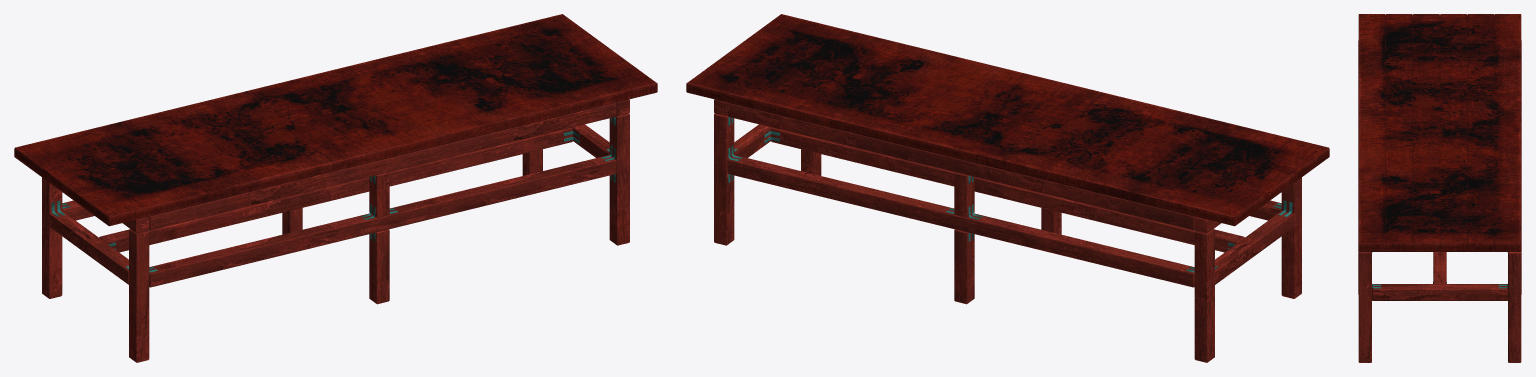
3 renders of one model, left to right at view 1: azimuth 30°, elevation 25°; view 2: azimuth 150°, elevation 25°; view 3: azimuth 270°, elevation 25°, orthographic. The views are drawn at different scales.
Parts seen in each view (by area): view 1: SM_Blacksmith_Table; view 2: SM_Blacksmith_Table; view 3: SM_Blacksmith_Table.
Boxes of the visible parts, x1=… form: SM_Blacksmith_Table: x1=14, y1=14, x2=657, y2=362; SM_Blacksmith_Table: x1=686, y1=14, x2=1329, y2=362; SM_Blacksmith_Table: x1=1358, y1=14, x2=1521, y2=362.
Size of the model in its own units: 2 by 0.5327 by 0.5991.
1 material, 1 textured.
